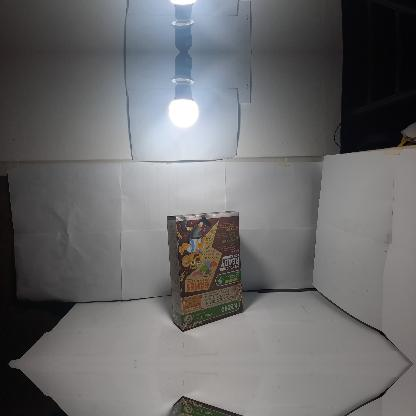Koko-Krunch: (166, 210, 244, 330)
